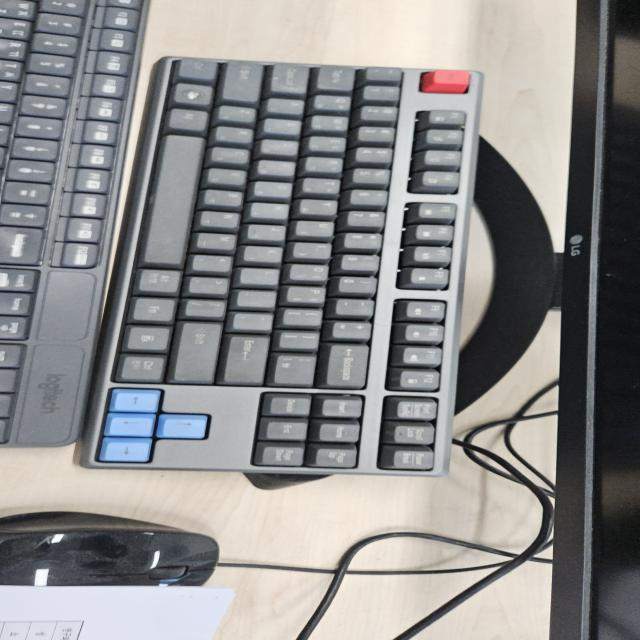Keyboard: (75, 54, 483, 477)
Mouse: (1, 509, 222, 587)
